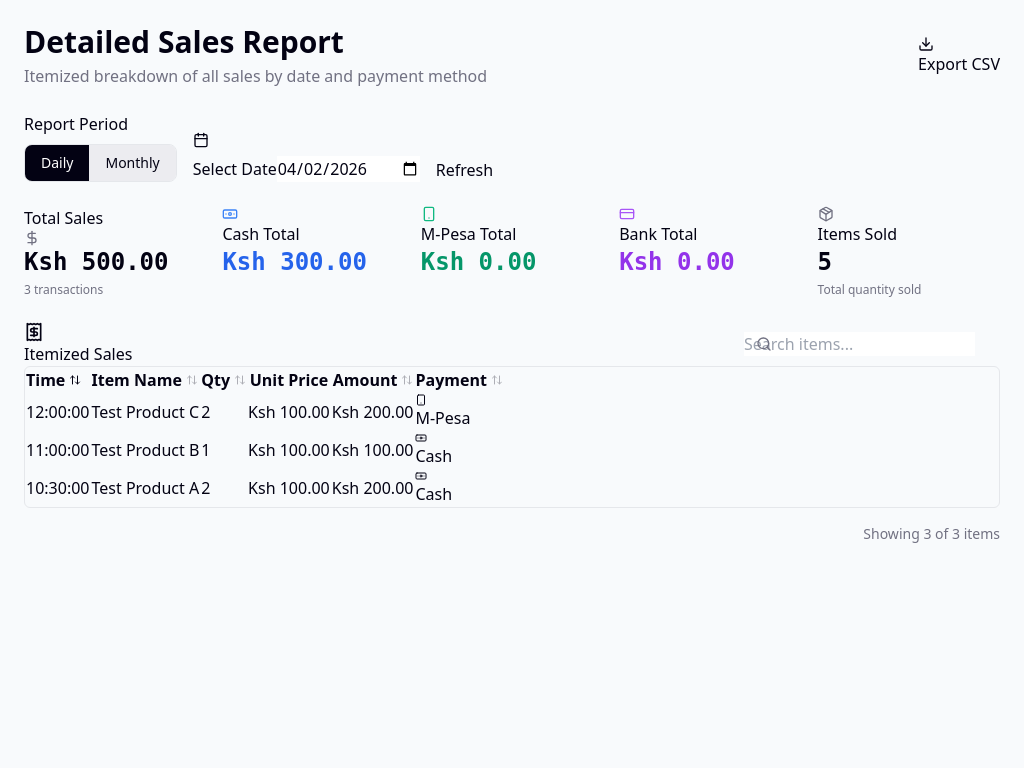
DetailedReportsScreen - Search Functionality › filters items by search query
Expected: the text "Test Product A" is shown, top-left (90, 469), bottom-right (200, 507)
Type "Product A" into the field with placeholder "Search items...". click: [860, 344]
box: top-left (744, 332), bottom-right (975, 356)
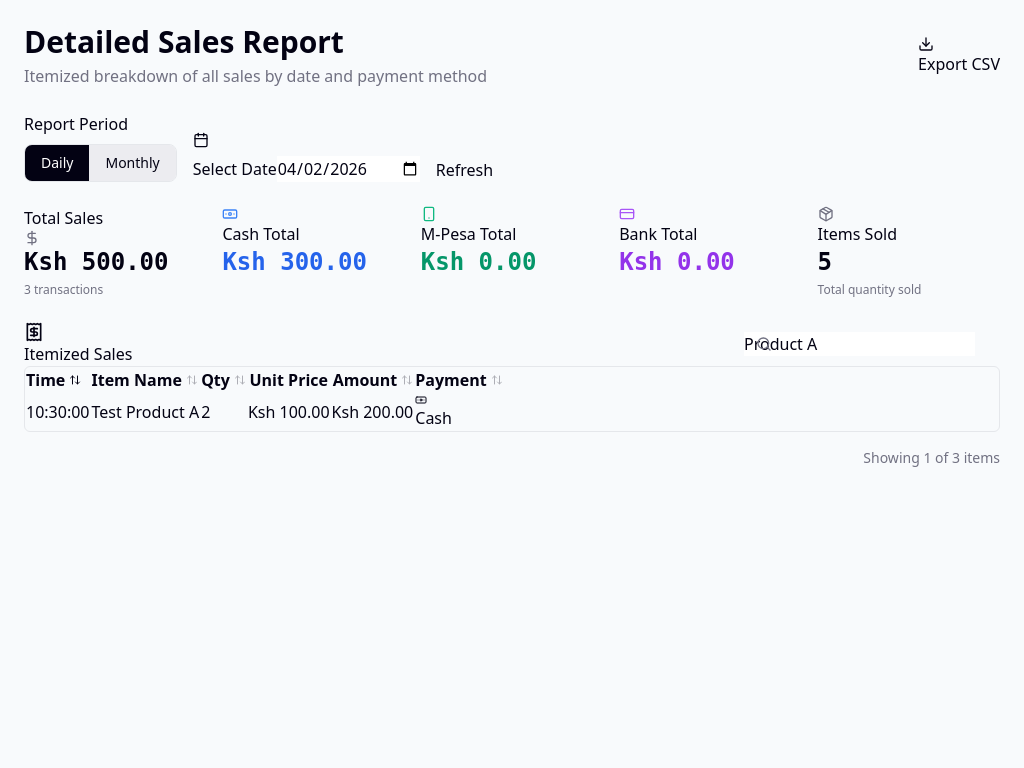
Expected: the text "Test Product A" is shown, top-left (90, 393), bottom-right (200, 431)
Result: the text "Test Product B" is gone
Result: the text "Test Product C" is gone
